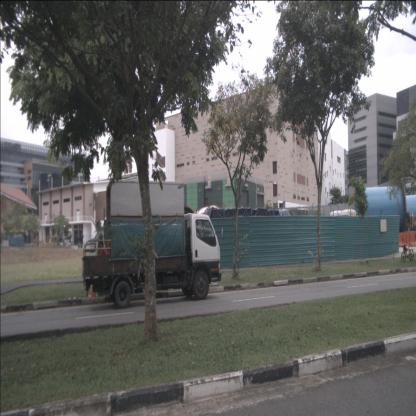barrier: (399, 232, 415, 247)
cone: (89, 273, 98, 298)
